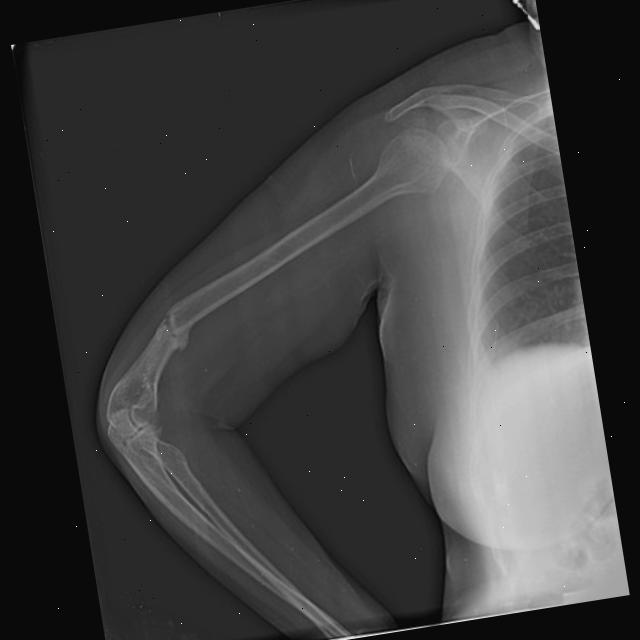Fracture: (152, 304, 194, 356)
